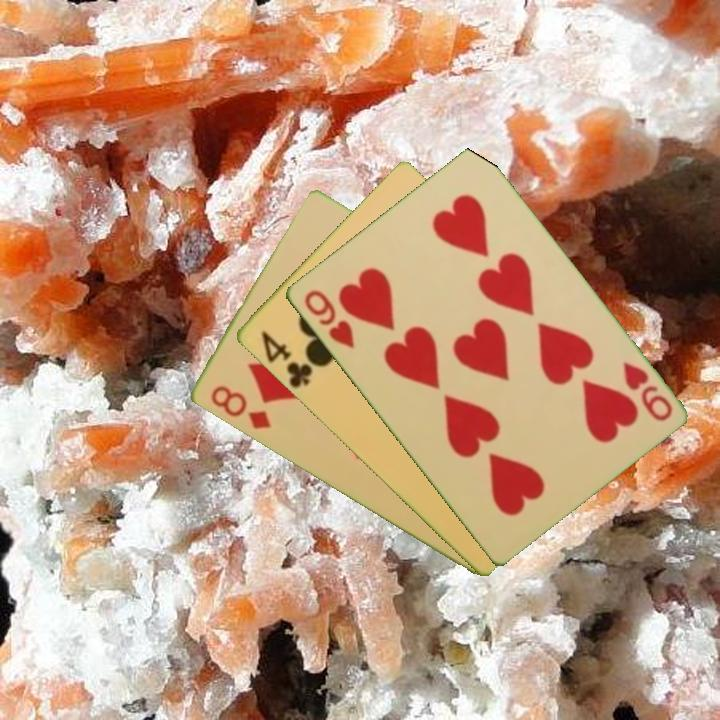4c: (257, 327, 318, 392)
8d: (206, 382, 274, 433)
9h: (618, 358, 675, 425), (300, 286, 357, 352)
